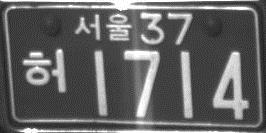1: (176, 49, 199, 120), (89, 48, 112, 118)
3: (137, 10, 166, 46)
4: (210, 50, 250, 121)
7: (122, 47, 160, 118), (166, 10, 193, 46)
서울_O: (73, 14, 132, 42)
허: (21, 49, 68, 93)
